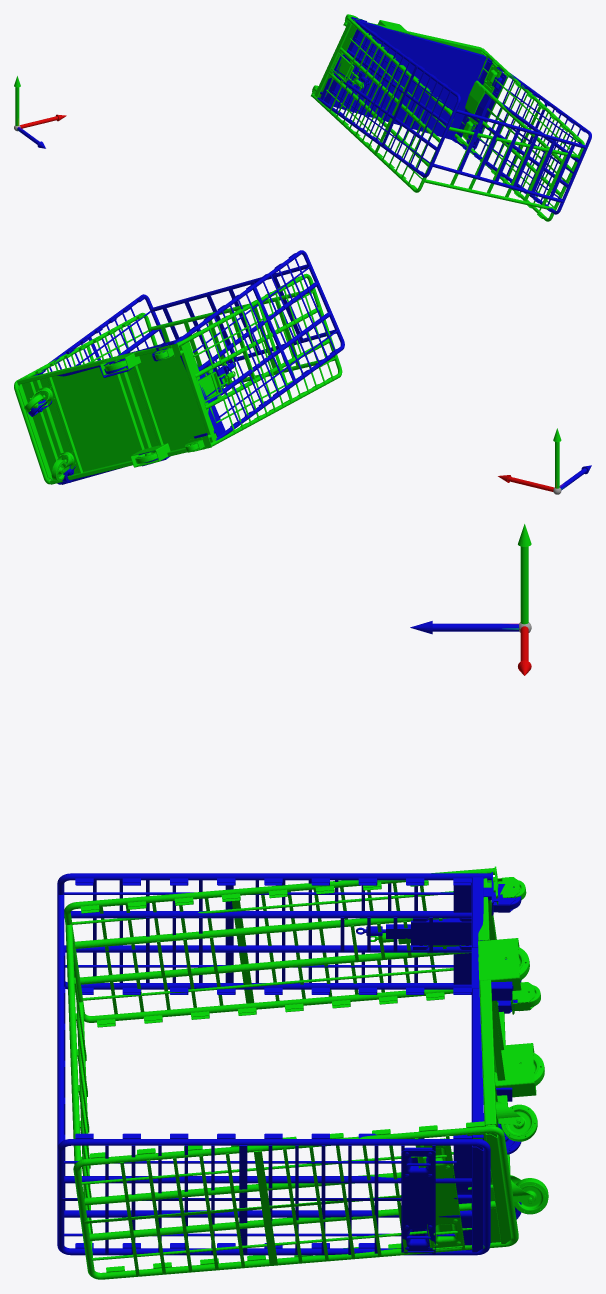
Rendered from combined_scene_sample_321.glb.
3 renders of one model, top to bottom at view 1: azimuth 30°, elevation 25°; view 2: azimuth 150°, elevation 25°; view 3: azimuth 270°, elevation 25°, orthographic. The views are drawn at different scales.
Visible parts, largest first — view 1: gt, pred, frame; view 2: pred, gt, frame; view 3: pred, gt, frame.
Boxes of the visible parts, x1,y1,x2,y2 form: gt: (317,17,591,214); pred: (311,14,584,221); frame: (14,76,66,148); pred: (14,273,342,484); gt: (28,250,344,484); frame: (498,428,591,494); pred: (64,866,548,1279); gt: (57,872,521,1255); frame: (410,524,531,675).
Bounding box in the file's own units: 4.64 × 1.64 × 2.13.
